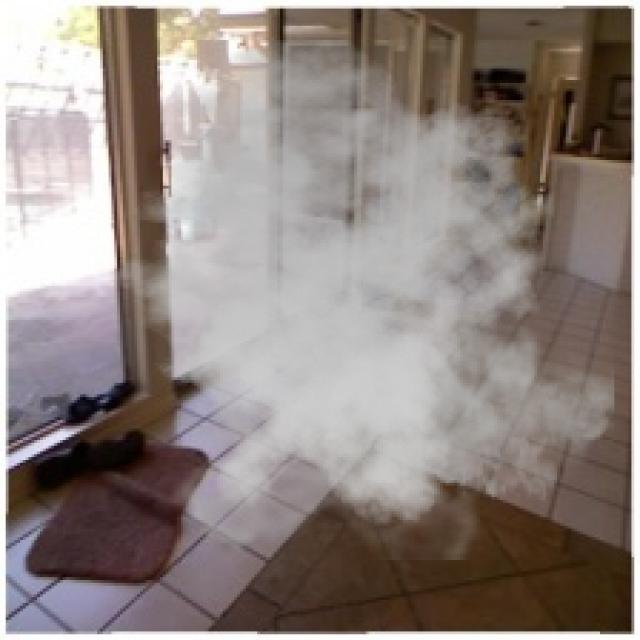smoke: (86, 37, 614, 560)
